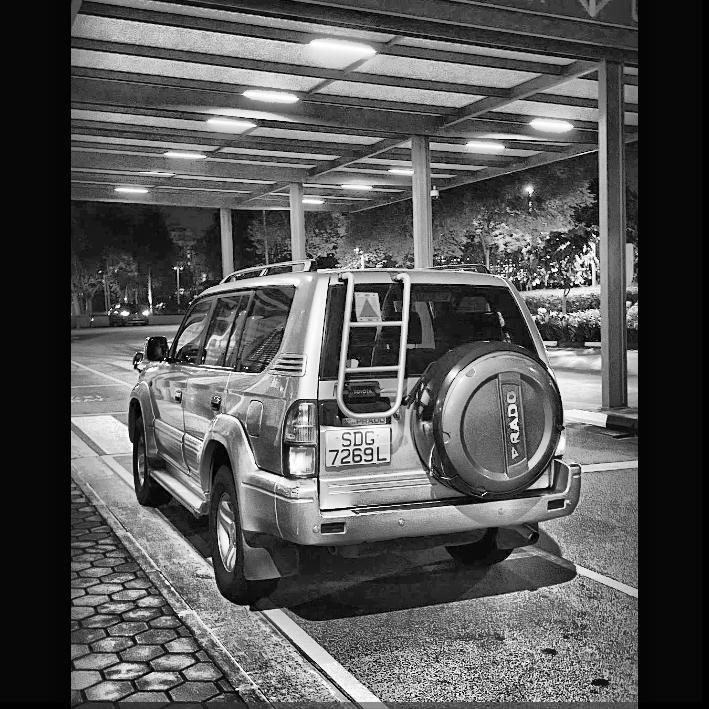License-Plates: (325, 427, 389, 467)
